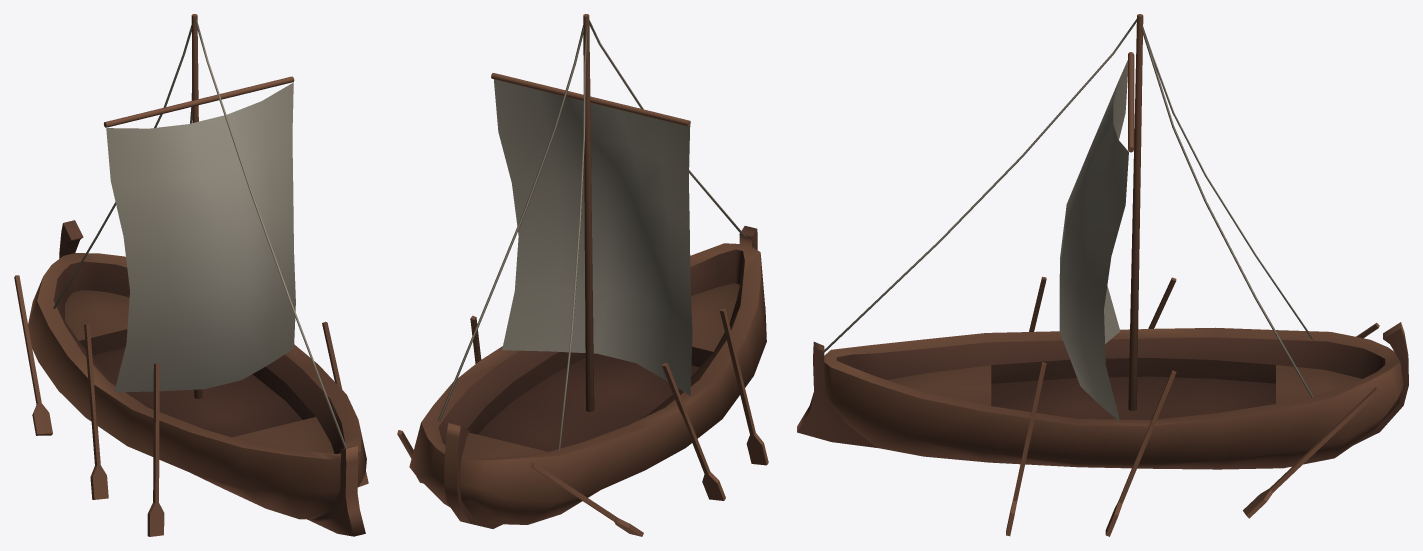
3 views of the same model, side by side, from view 1: azimuth 30°, elevation 25°; view 2: azimuth 150°, elevation 25°; view 3: azimuth 270°, elevation 25° (orthographic). The views are drawn at different scales.
Parts seen in each view (by area): view 1: base.851; view 2: base.851; view 3: base.851.
Part boxes in pixels (x1,y1,x2,y2): base.851: (14, 14, 368, 536); base.851: (397, 14, 768, 536); base.851: (797, 14, 1408, 536).
Bounding box in the file's own units: 0.2291 × 0.4215 × 0.5.
